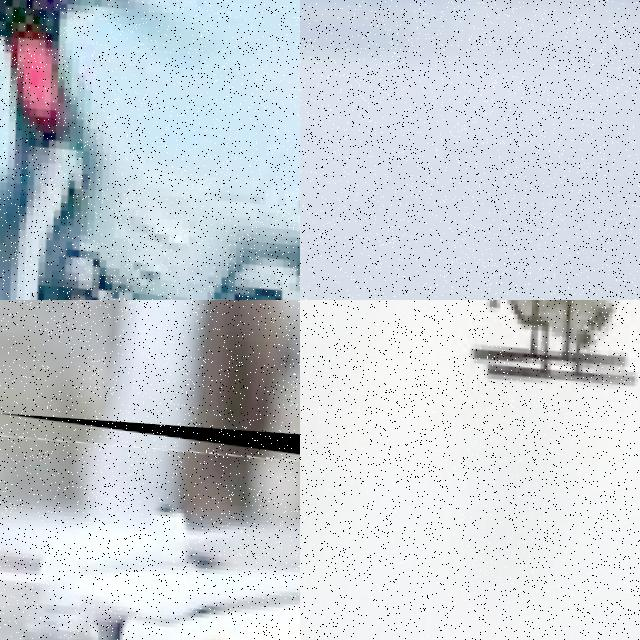0: (0, 412, 300, 640)
drone: (0, 0, 300, 300), (300, 300, 640, 439)
